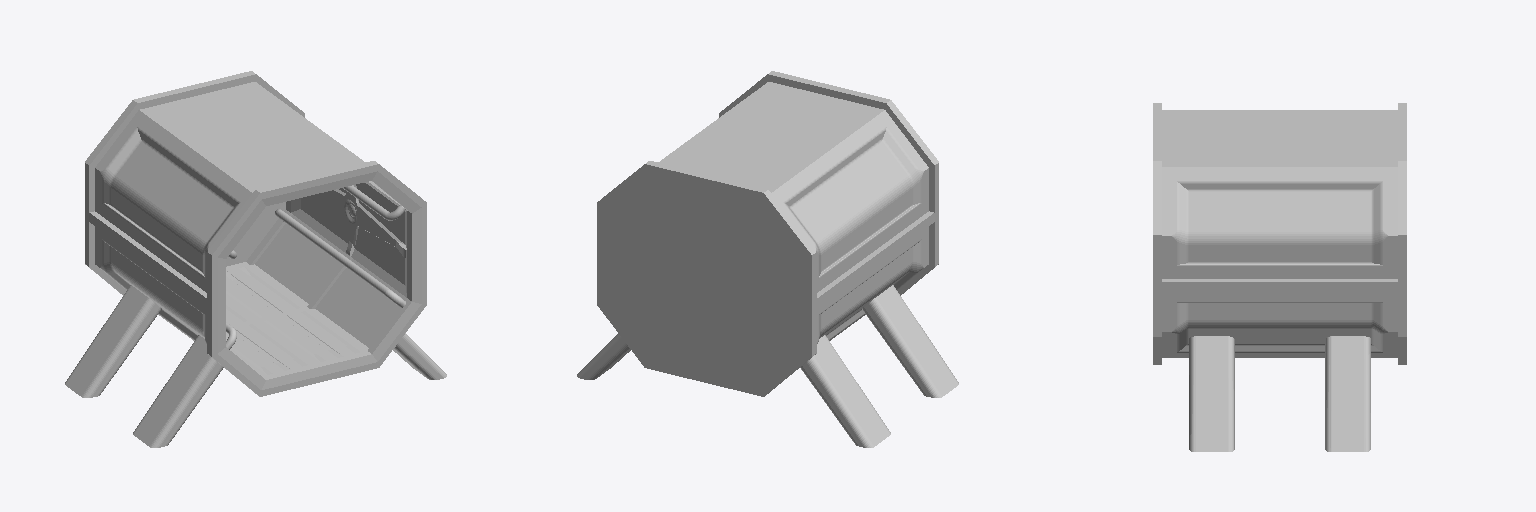
File: corridor.obj
The picture shows the model from 3 angles: view 1: azimuth 30°, elevation 25°; view 2: azimuth 150°, elevation 25°; view 3: azimuth 270°, elevation 25°; orthographic projection.
Visible parts, largest first — view 1: coridoor_Cube, Cylinder; view 2: coridoor_Cube; view 3: coridoor_Cube.
Boxes of the visible parts, x1,y1,x2,y2 form: coridoor_Cube: [65, 71, 446, 447]; Cylinder: [226, 185, 405, 349]; coridoor_Cube: [577, 71, 958, 447]; coridoor_Cube: [1153, 103, 1406, 451].
Bounding box in the file's own units: 3.2 × 2.55 × 2.38.